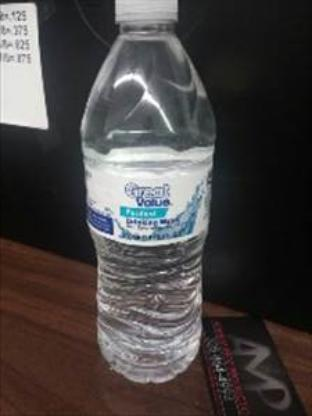Plastic Bottle: (78, 0, 216, 384)
